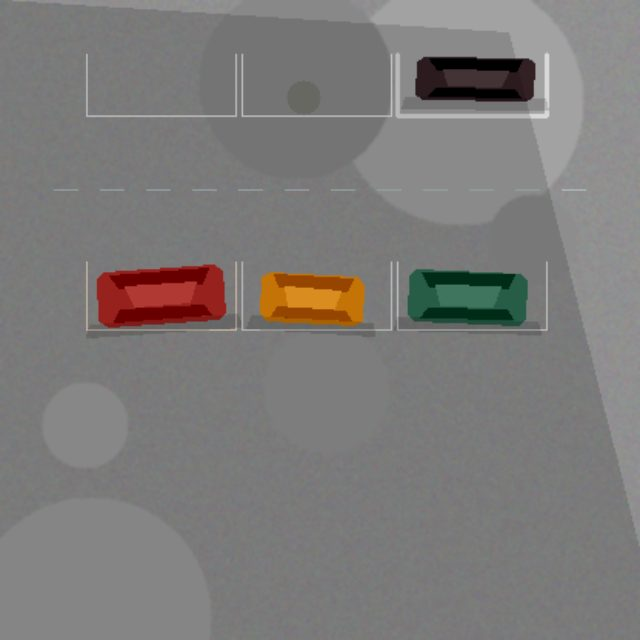space-empty: (86, 54, 235, 115), (242, 54, 391, 115)
space-occupied: (86, 262, 235, 329), (242, 262, 391, 329), (397, 262, 546, 329), (397, 54, 546, 115)
